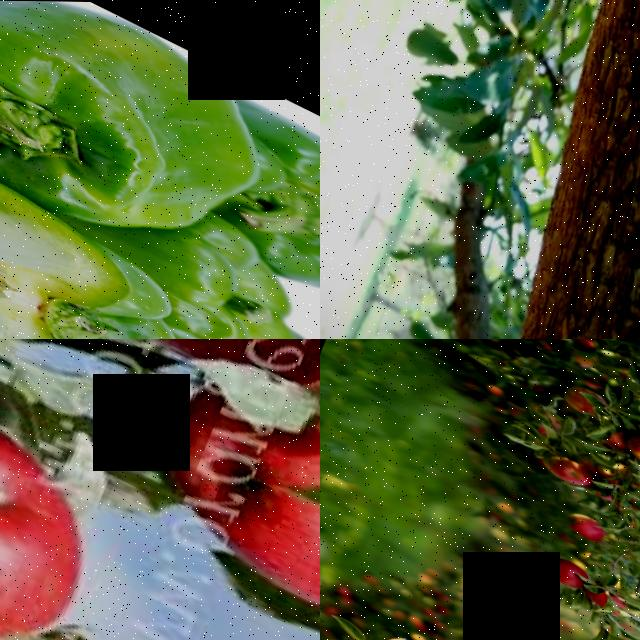apple: (121, 348, 320, 640), (0, 363, 138, 640), (42, 339, 320, 423), (518, 440, 606, 506), (542, 366, 620, 431), (518, 441, 599, 494), (526, 543, 590, 598), (545, 499, 606, 548), (578, 576, 637, 623), (549, 504, 604, 547), (612, 424, 640, 477)
bell pepper: (0, 0, 262, 235), (0, 100, 190, 339), (117, 181, 320, 339), (219, 99, 320, 258)
